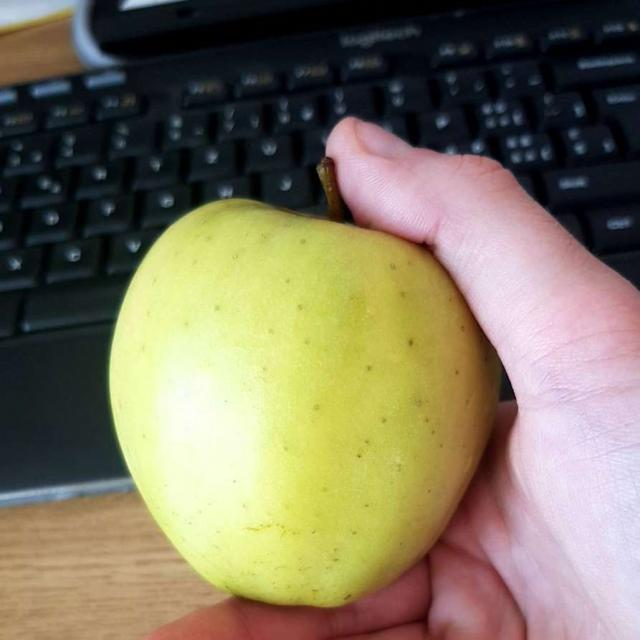apple: (113, 189, 478, 603)
